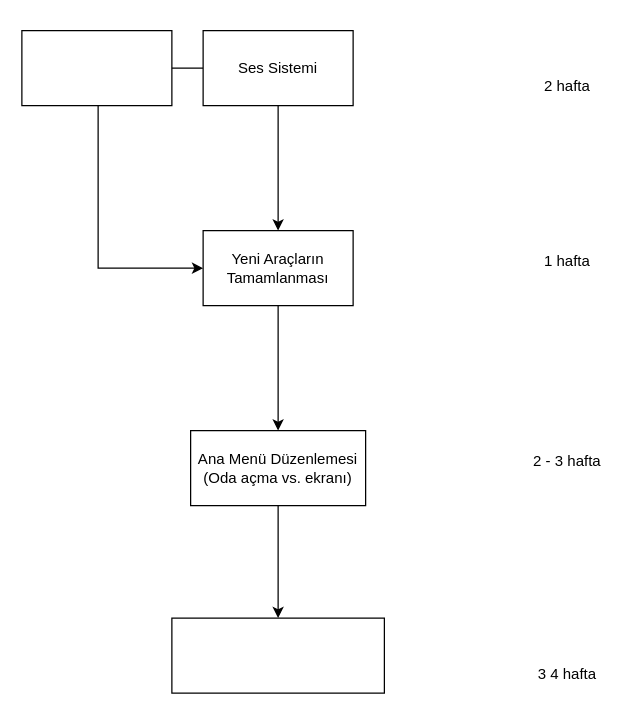
The diagram is 639 pixels wide and 715 high, and some of its shapes have lost their labels. The centre of each missing label's shape, as x and y in pixels:
"Vinyl Sistemi Düzenlemesi (Bitiriş)" goes at [277,655].
"Yayımcı ile görüşmelere başlama" goes at [96,67].
